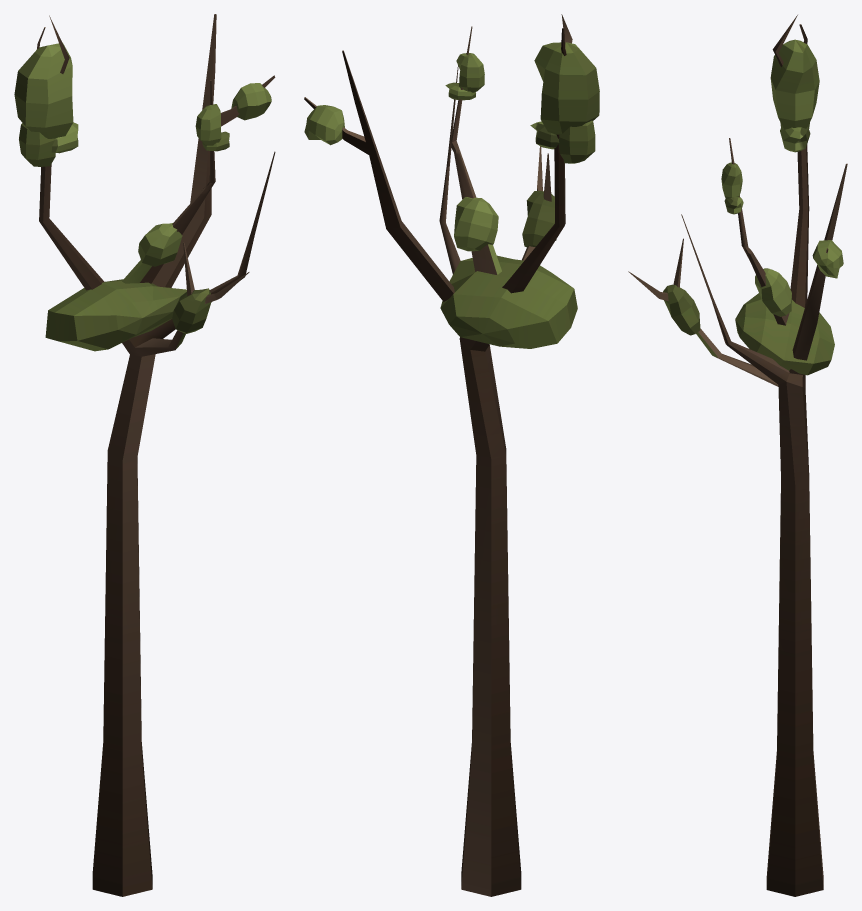
File: nuevoarbolcontextura.fbx
3 views of the same model, side by side, from view 1: azimuth 30°, elevation 25°; view 2: azimuth 150°, elevation 25°; view 3: azimuth 270°, elevation 25° (orthographic). The views are drawn at different scales.
Parts seen in each view (by area): view 1: pCylinder2; view 2: pCylinder2; view 3: pCylinder2.
Boxes of the visible parts, x1,y1,x2,y2 form: pCylinder2: (14, 14, 275, 896); pCylinder2: (304, 14, 599, 896); pCylinder2: (628, 15, 847, 896).
Size of the model in its own units: 2.01 by 6.25 by 1.49.
Materials: 1 (1 with a texture image).
